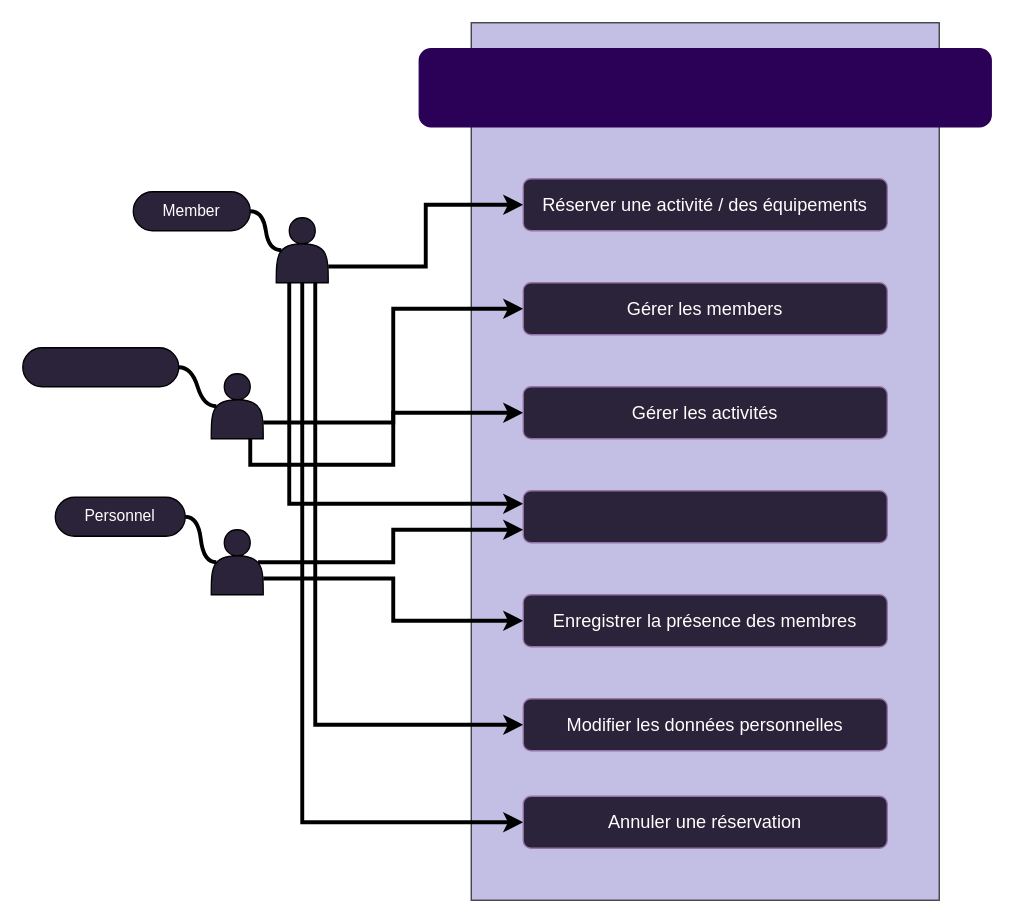
The diagram is 1014 pixels wide and 923 high, and some of its shapes have lost their labels. The shapes that lost their labels are listed below. From the top down, each one's box as (x1, y1, x2, y2) in pixels, then its label:
(418, 47, 991, 127): Systeme de Gestion d'un Salle de Sport (FitBook)
(21, 346, 179, 387): Administrateur
(522, 489, 887, 543): Consulter les activités
